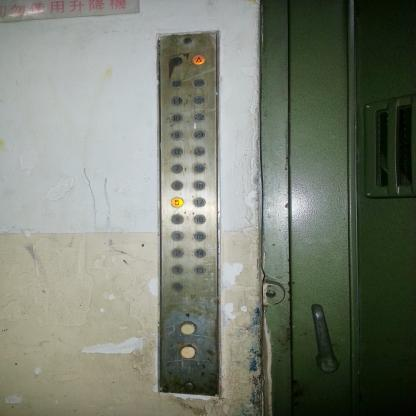1: (172, 265, 184, 275)
10: (170, 112, 184, 124)
11: (170, 96, 183, 106)
12: (170, 79, 183, 88)
13: (194, 266, 206, 275)
14: (194, 248, 206, 258)
15: (193, 231, 206, 242)
16: (194, 214, 206, 224)
17: (193, 198, 206, 207)
18: (193, 180, 205, 190)
19: (192, 163, 206, 173)
2: (172, 248, 184, 258)
20: (193, 146, 205, 156)
21: (192, 129, 206, 139)
22: (192, 112, 206, 122)
23: (192, 95, 206, 105)
24: (192, 77, 205, 88)
3: (171, 232, 183, 241)
4: (170, 214, 184, 224)
5: (170, 198, 184, 206)
6: (171, 180, 183, 190)
7: (170, 163, 184, 174)
8: (170, 146, 184, 158)
9: (170, 130, 184, 140)
G: (171, 282, 184, 292)
down: (170, 56, 182, 66)
empty: (181, 320, 196, 335), (180, 346, 196, 359)
up: (192, 56, 204, 64)
